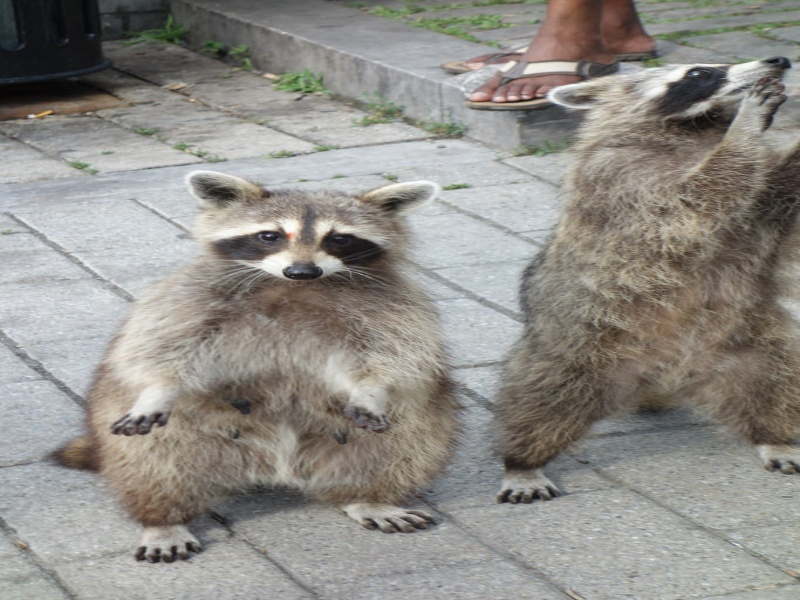raccoon: (52, 165, 460, 566), (490, 51, 800, 508)
